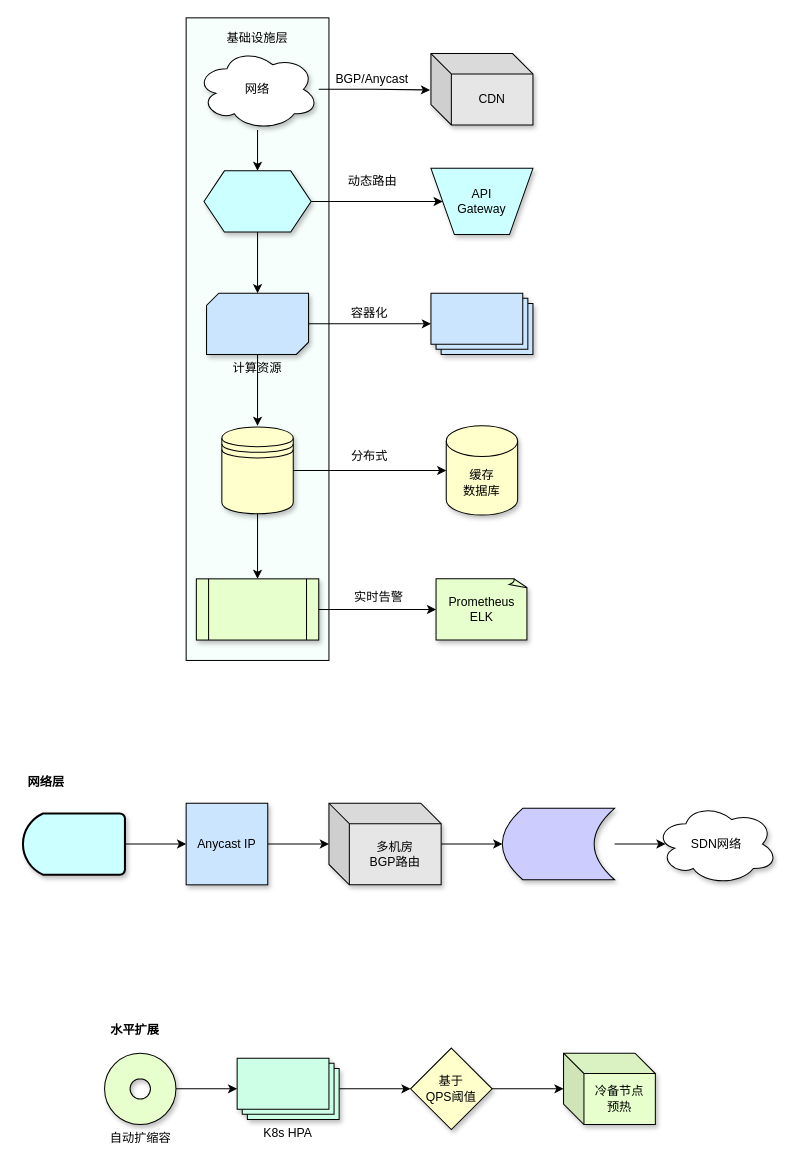
This 802x1164 diagram has some shape labels left out. The shapes that lost their labels are listed below. From the top down, each one's centre as x and y in pixels, then its label:
At point 258,202: "负载均衡".
At point 482,325: "K8s集群".
At point 258,471: "存储".
At point 258,610: "监控与运维".
At point 74,845: "智能DNS".
At point 559,845: "DDoS防护".
